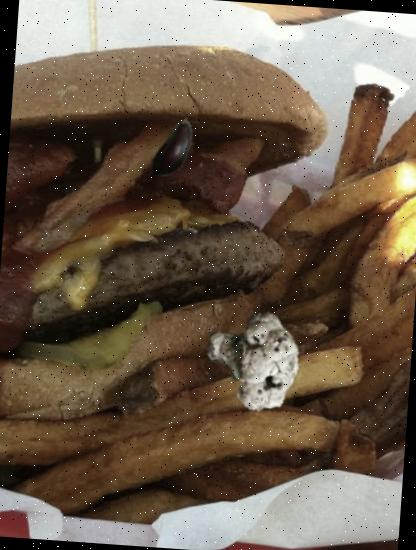Cauliflower: (196, 305, 308, 416)
Eggplant: (140, 114, 210, 184)
